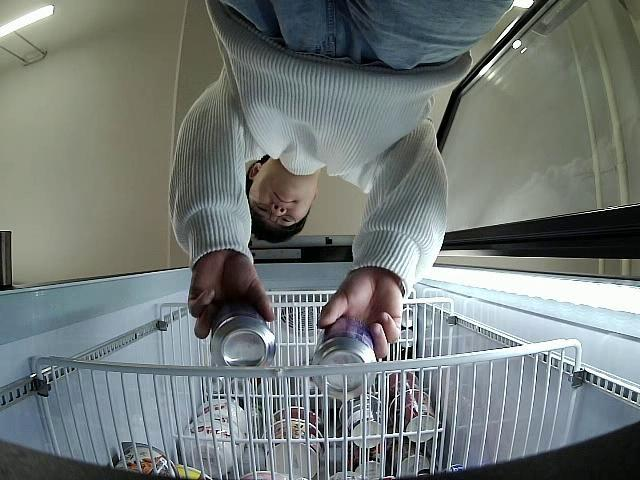14_welchsGrape: (311, 317, 378, 399), (211, 306, 277, 366)
